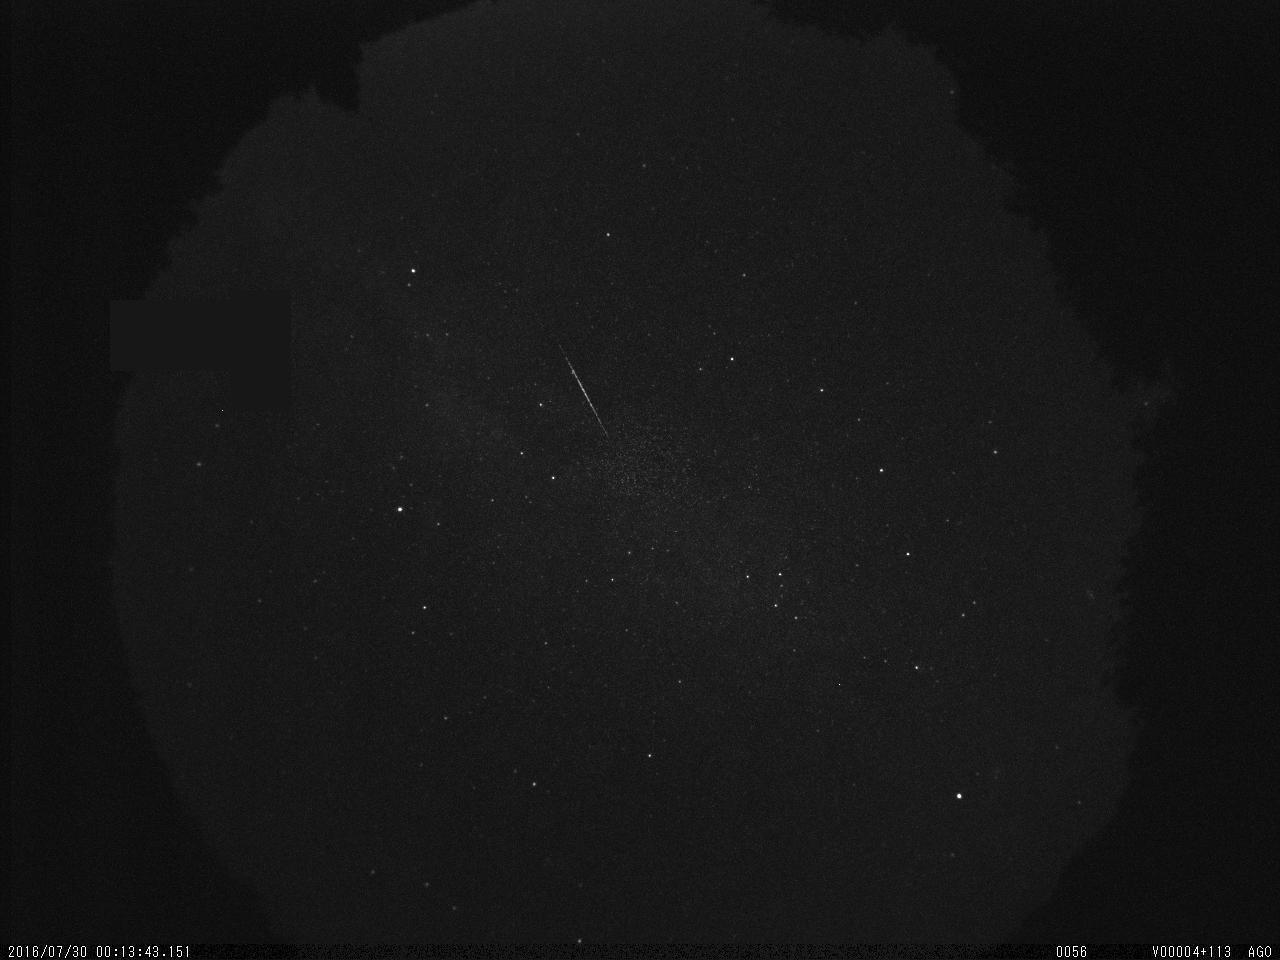Meteor: (542, 320, 616, 446)
